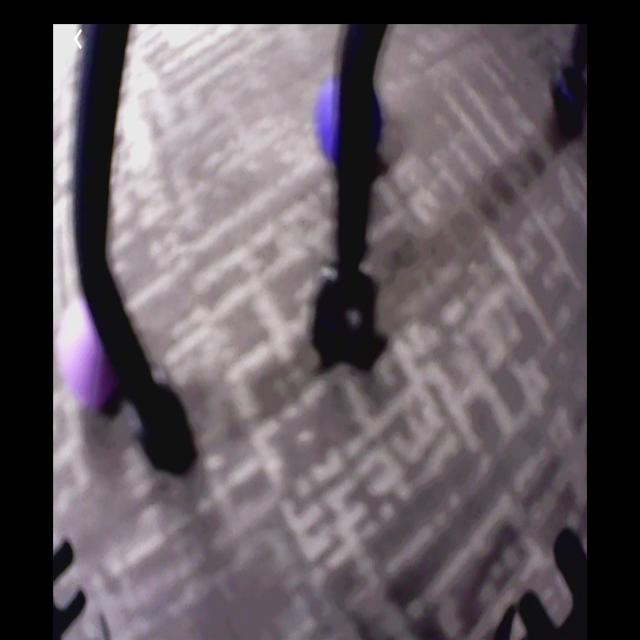ball: (64, 300, 126, 408), (319, 82, 381, 166)
